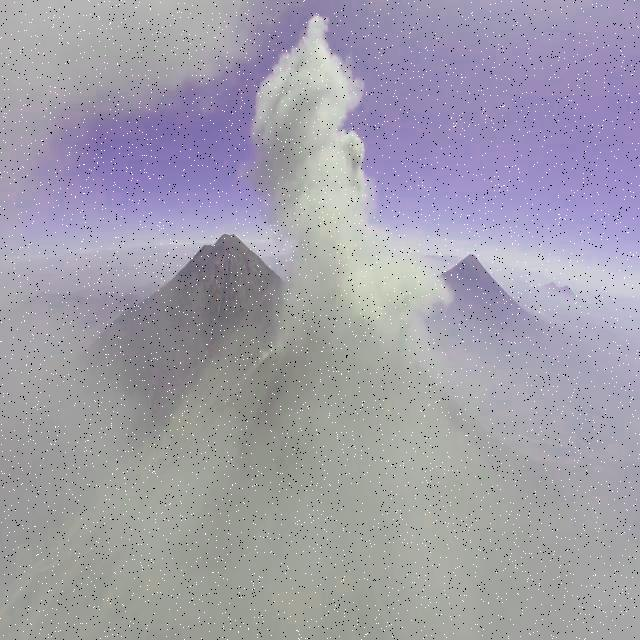Plume: (242, 16, 458, 412)
